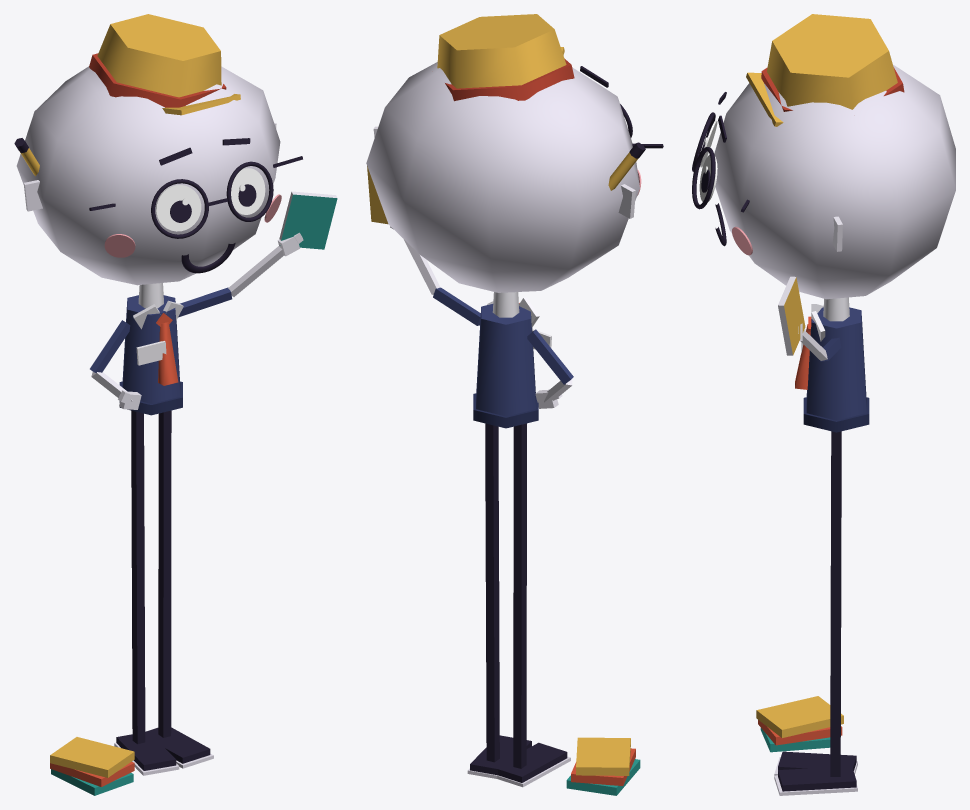
File: Robert.glb
The picture shows the model from 3 angles, left to right: view 1: azimuth 30°, elevation 25°; view 2: azimuth 150°, elevation 25°; view 3: azimuth 270°, elevation 25°; orthographic projection. The views are drawn at different scales.
Parts seen in each view (by area): view 1: headShell, Robert, hat, head, torso, arms, comic; view 2: headShell, Robert, hat, torso, arms, head; view 3: headShell, Robert, hat, torso, head, comic, arms.
Part boxes in pixels (bbox=[...]): headShell: bbox=[16, 66, 280, 285]; Robert: bbox=[50, 283, 213, 795]; hat: bbox=[89, 14, 240, 115]; head: bbox=[14, 122, 302, 273]; torso: bbox=[122, 295, 180, 403]; arms: bbox=[90, 232, 303, 409]; comic: bbox=[279, 191, 337, 249]; headShell: bbox=[366, 62, 639, 292]; Robert: bbox=[467, 292, 640, 795]; hat: bbox=[437, 14, 574, 101]; torso: bbox=[476, 304, 535, 416]; arms: bbox=[390, 226, 573, 408]; head: bbox=[373, 66, 663, 218]; headShell: bbox=[714, 65, 955, 299]; Robert: bbox=[756, 297, 869, 795]; hat: bbox=[746, 14, 904, 126]; torso: bbox=[806, 307, 866, 420]; head: bbox=[692, 92, 842, 255]; comic: bbox=[778, 276, 805, 355]; arms: bbox=[798, 323, 841, 361].
Bounding box in the file's own units: 3.31 × 7.71 × 2.47.
